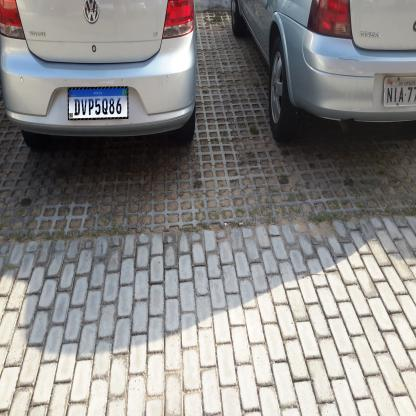PlacaM: (67, 86, 128, 121)
